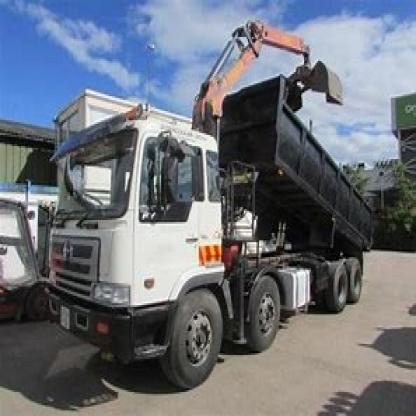dump_truck: (35, 81, 389, 381)
